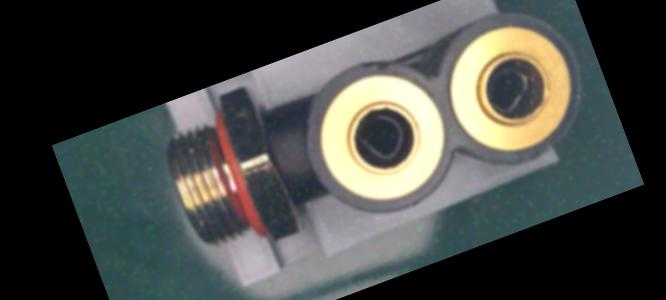bump: (353, 49, 399, 79), (529, 134, 568, 160)
joint line: (274, 149, 306, 166)
off-centered: (478, 55, 543, 119), (351, 108, 414, 165)
white mark: (283, 159, 304, 177)
